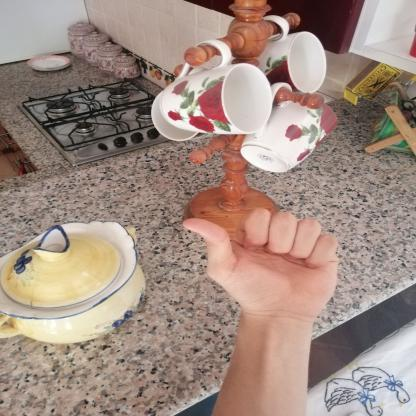DAD: (168, 200, 351, 328)
